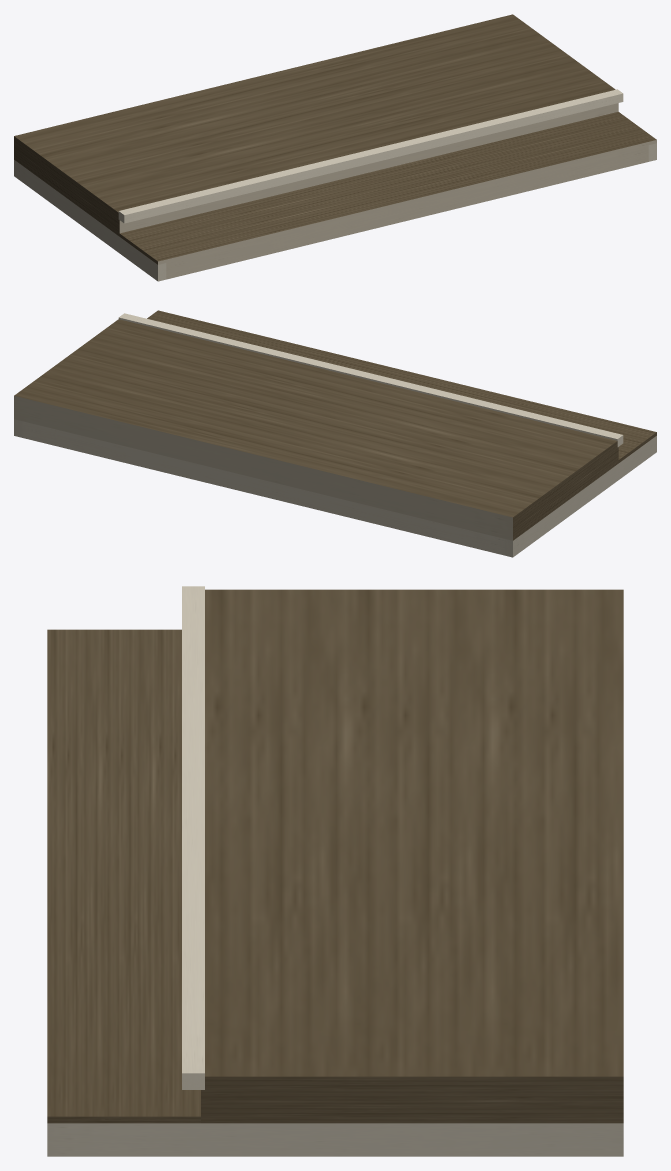
The model's file is house_03_porch_deck.glb.
3 views of the same model, one above another, from view 1: azimuth 30°, elevation 25°; view 2: azimuth 150°, elevation 25°; view 3: azimuth 270°, elevation 25° (orthographic). The views are drawn at different scales.
Parts seen in each view (by area): view 1: outdoor_house_03_porch_deck; view 2: outdoor_house_03_porch_deck; view 3: outdoor_house_03_porch_deck.
Part boxes in pixels (x1,y1,x2,y2): outdoor_house_03_porch_deck: (14, 14, 656, 281); outdoor_house_03_porch_deck: (14, 310, 656, 557); outdoor_house_03_porch_deck: (47, 586, 623, 1156).
Bounding box in the file's own units: 3 × 0.24 × 1.5.
Materials: 1 (1 with a texture image).
